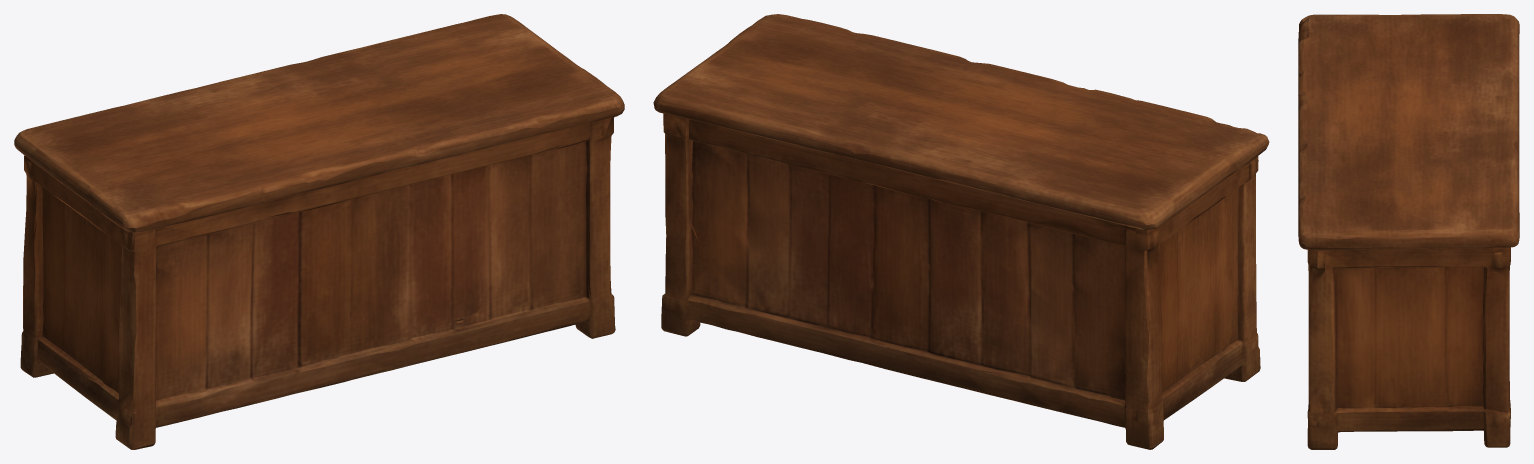
The model's file is counter.glb.
The picture shows the model from 3 angles, left to right: view 1: azimuth 30°, elevation 25°; view 2: azimuth 150°, elevation 25°; view 3: azimuth 270°, elevation 25°; orthographic projection. The views are drawn at different scales.
Visible parts, largest first — view 1: world; view 2: world; view 3: world.
Part boxes in pixels (x1,y1,x2,y2): world: (14, 14, 624, 449); world: (653, 14, 1269, 449); world: (1298, 14, 1519, 449).
Size of the model in its own units: 1 by 0.4614 by 0.4209.
Materials: 1 (1 with a texture image).
